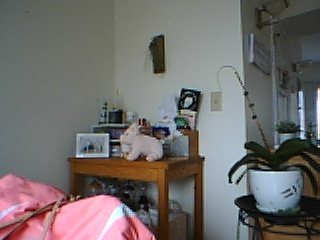piggy: (119, 122, 165, 162)
